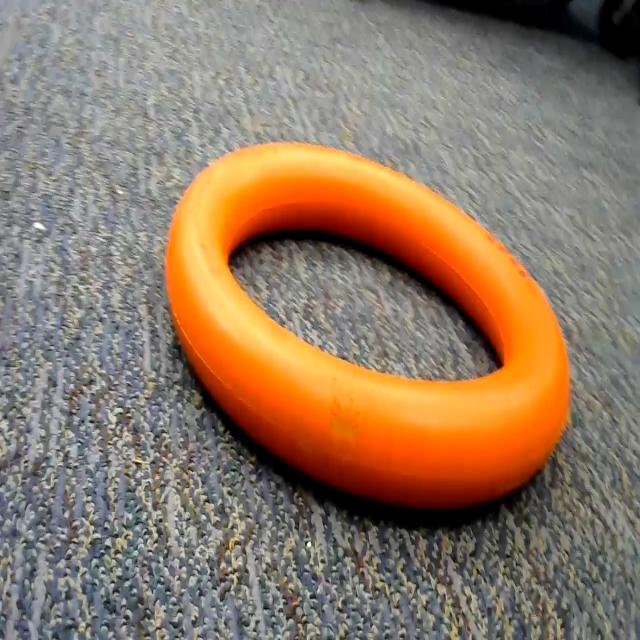note: (160, 135, 582, 522)
